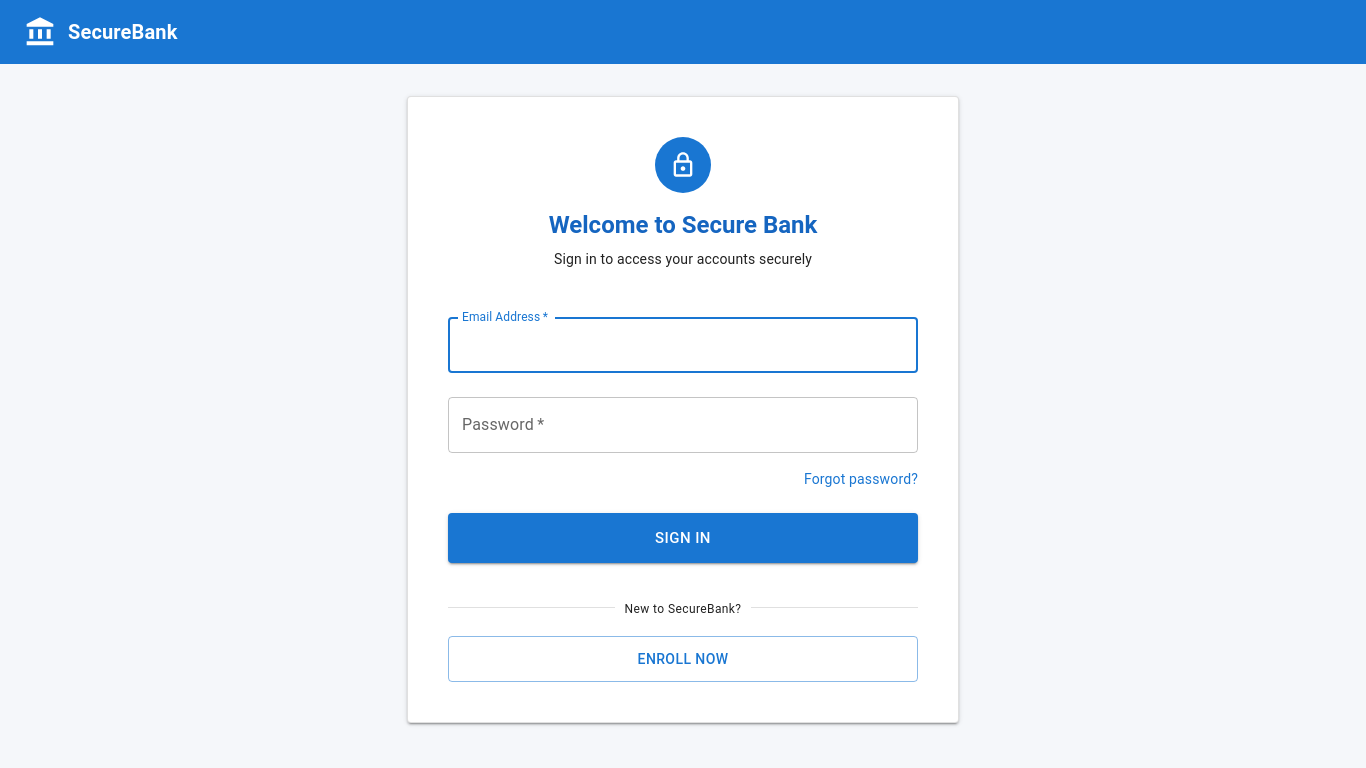
Test: Login Page › shows server error message on failed login
Step 1. Type "bad@example.com" into the field labelled "Email Address *" → (683, 345), box [448,317,918,373]
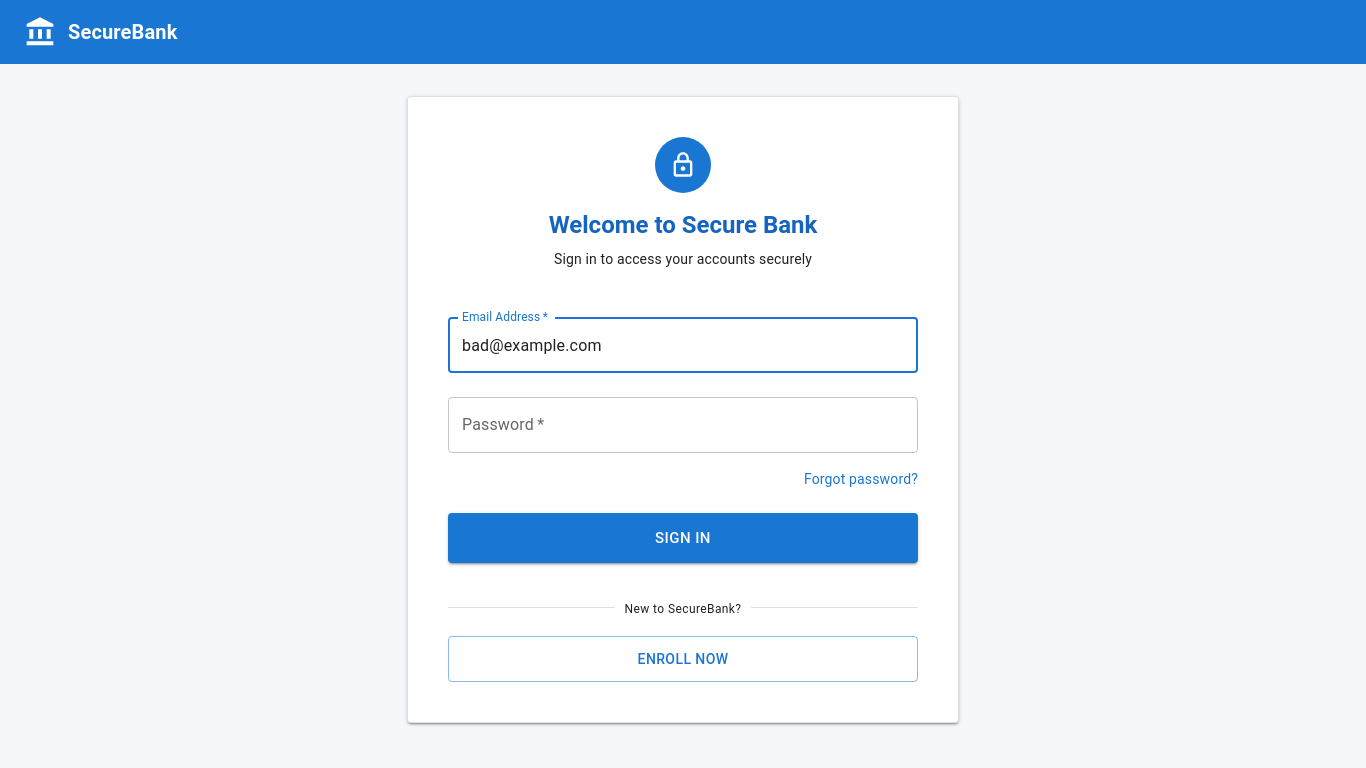
Step 2. Type "wrongpass" into the password field labelled "Password *" → (683, 425), box [448,397,918,453]
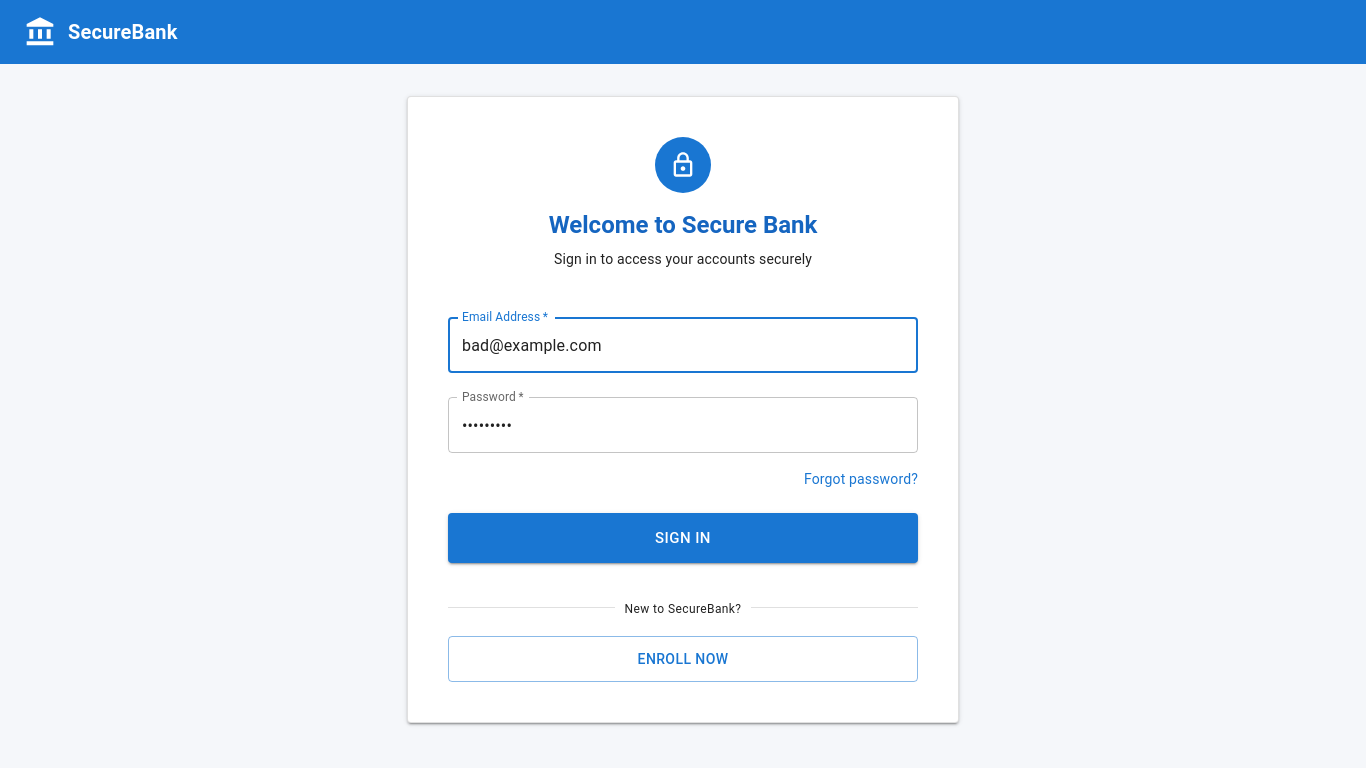
Step 3. Click the button "Sign In" → (683, 538), box [448,513,918,563]
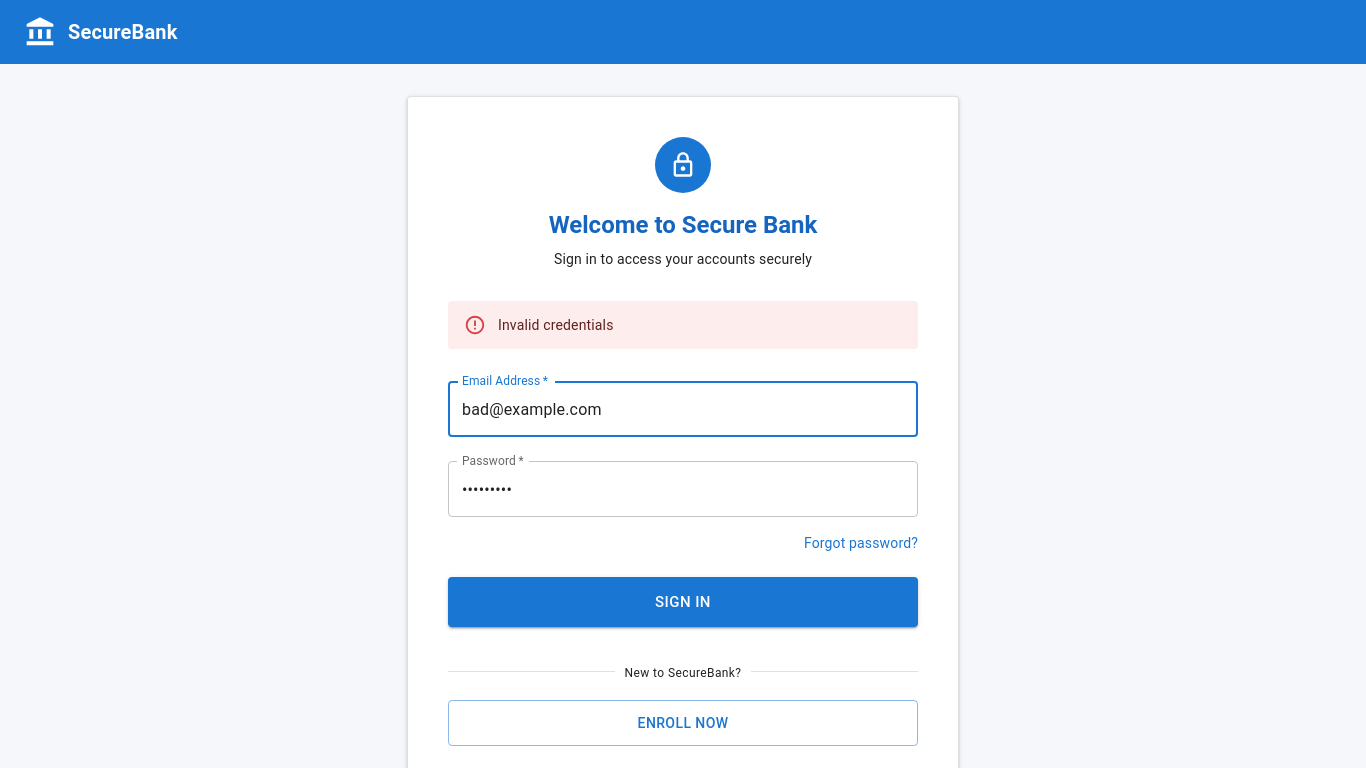
expect the text "Invalid credentials" is shown: met, box [498,317,614,333]
